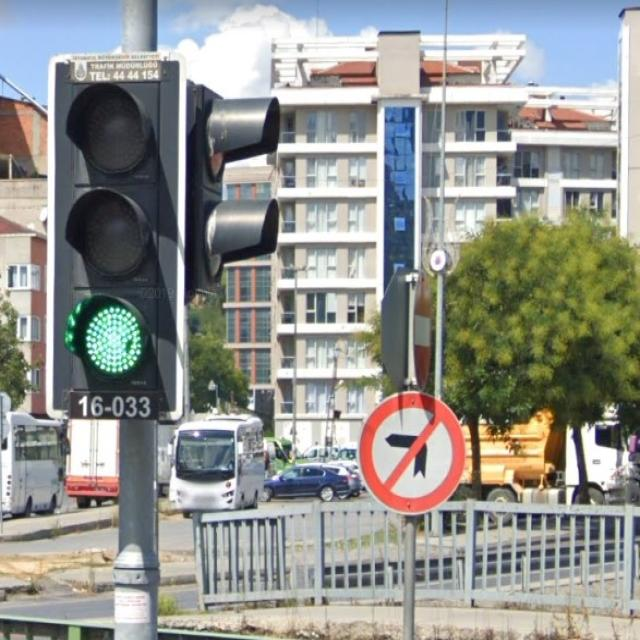soladonulmez: (356, 391, 464, 515)
yesil: (49, 56, 182, 417)
